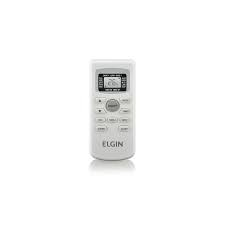remote control: (88, 54, 141, 166)
